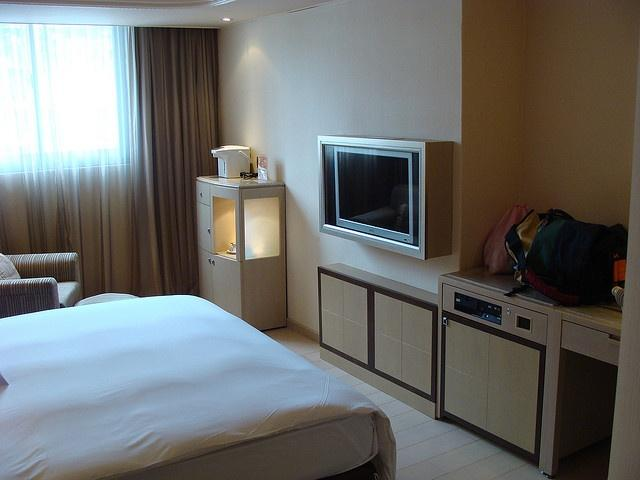Lemari: (194, 173, 286, 331)
